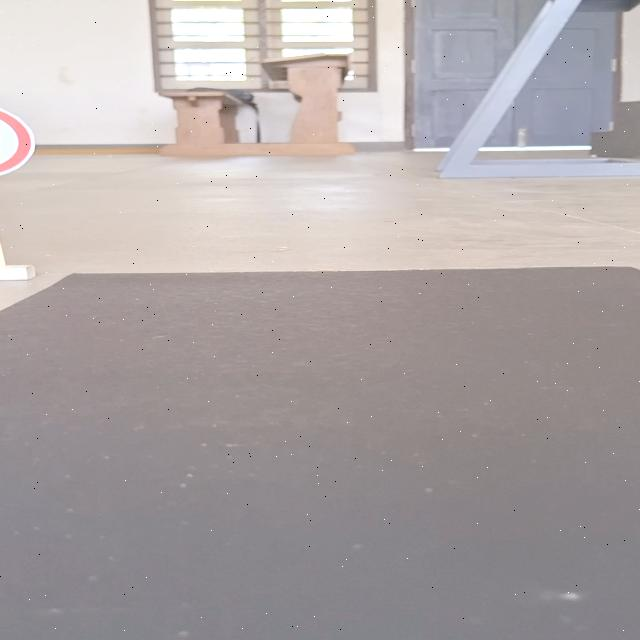Reject: (0, 102, 37, 182)
